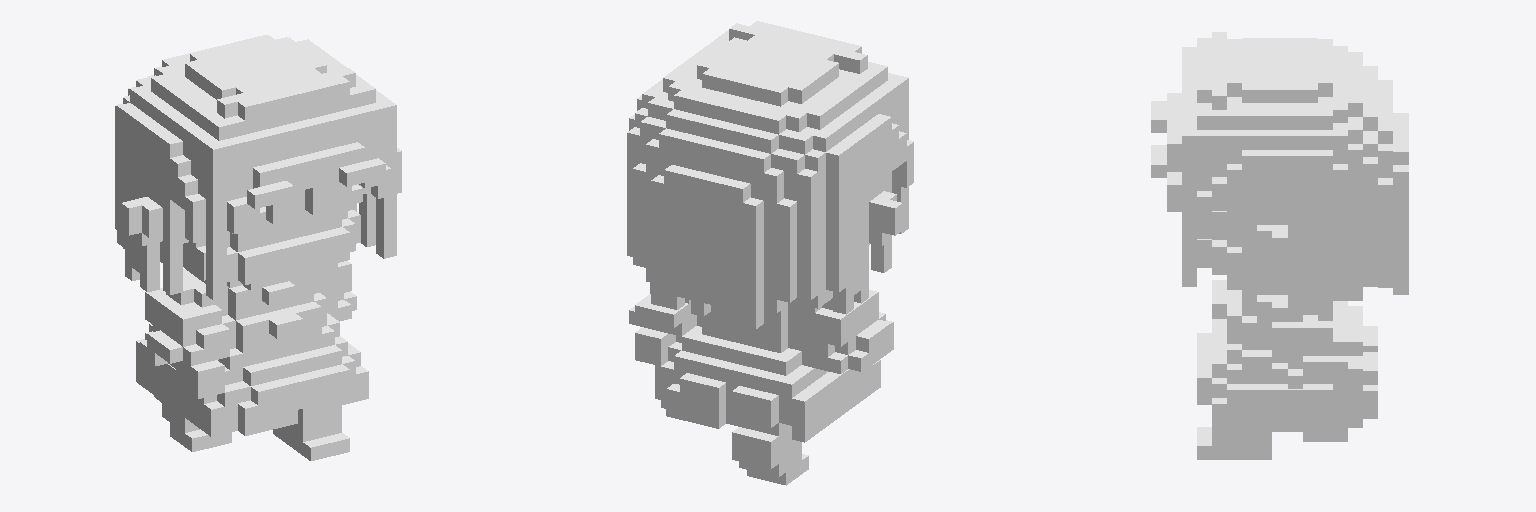
Rendered from player_running_0.obj.
3 renders of one model, left to right at view 1: azimuth 30°, elevation 25°; view 2: azimuth 150°, elevation 25°; view 3: azimuth 270°, elevation 25°, orthographic.
Visible parts, largest first — view 1: object 1; view 2: object 1; view 3: object 1.
Boxes of the visible parts, x1=… form: object 1: x1=115, y1=35, x2=401, y2=460; object 1: x1=627, y1=21, x2=913, y2=485; object 1: x1=1151, y1=32, x2=1408, y2=459.
Bounding box in the file's own units: 2 × 2.8 × 1.7.